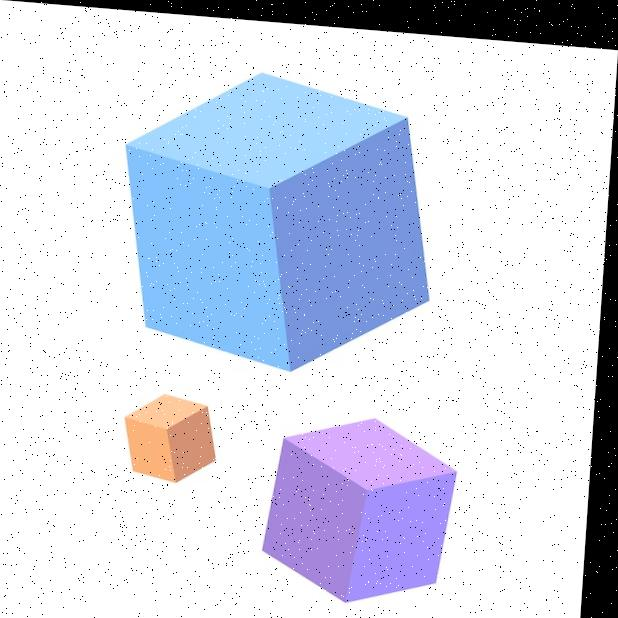cube: (111, 56, 449, 374), (262, 406, 464, 604), (124, 389, 232, 490)
